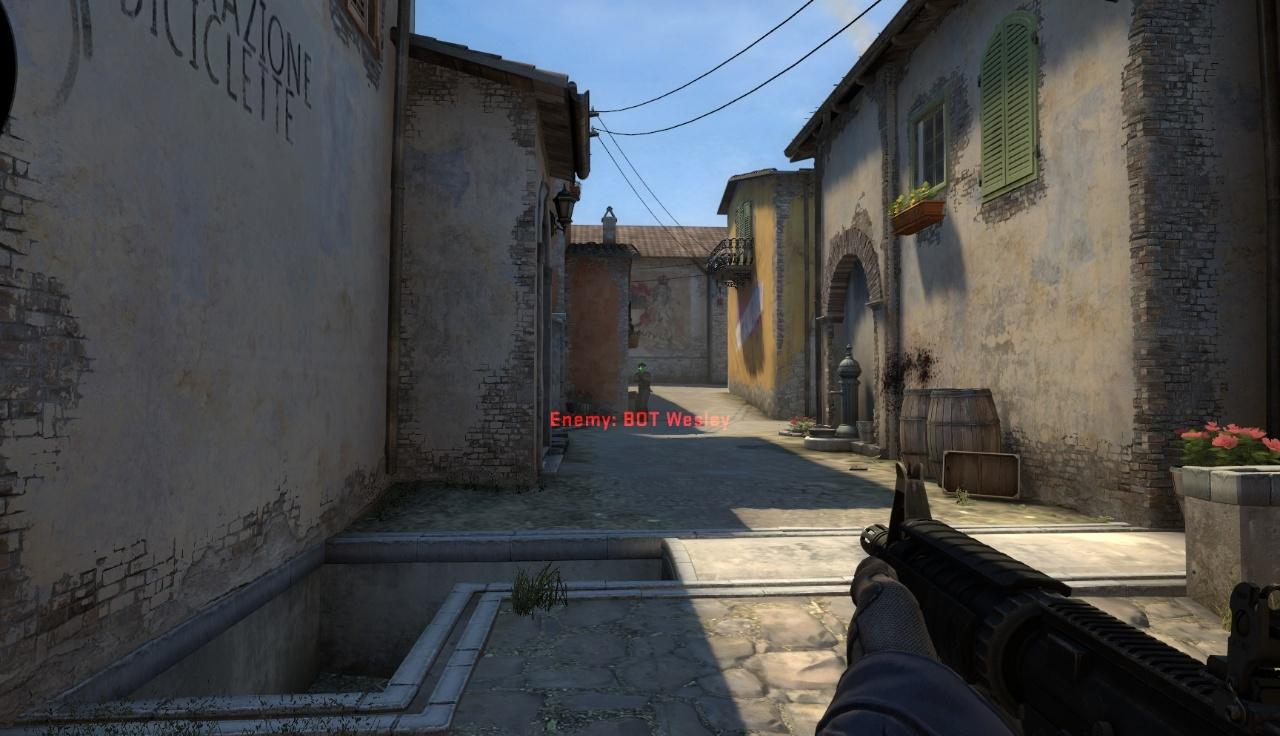rifle: (836, 472, 1275, 733)
tt: (633, 363, 651, 421)
tthead: (638, 363, 646, 374)
